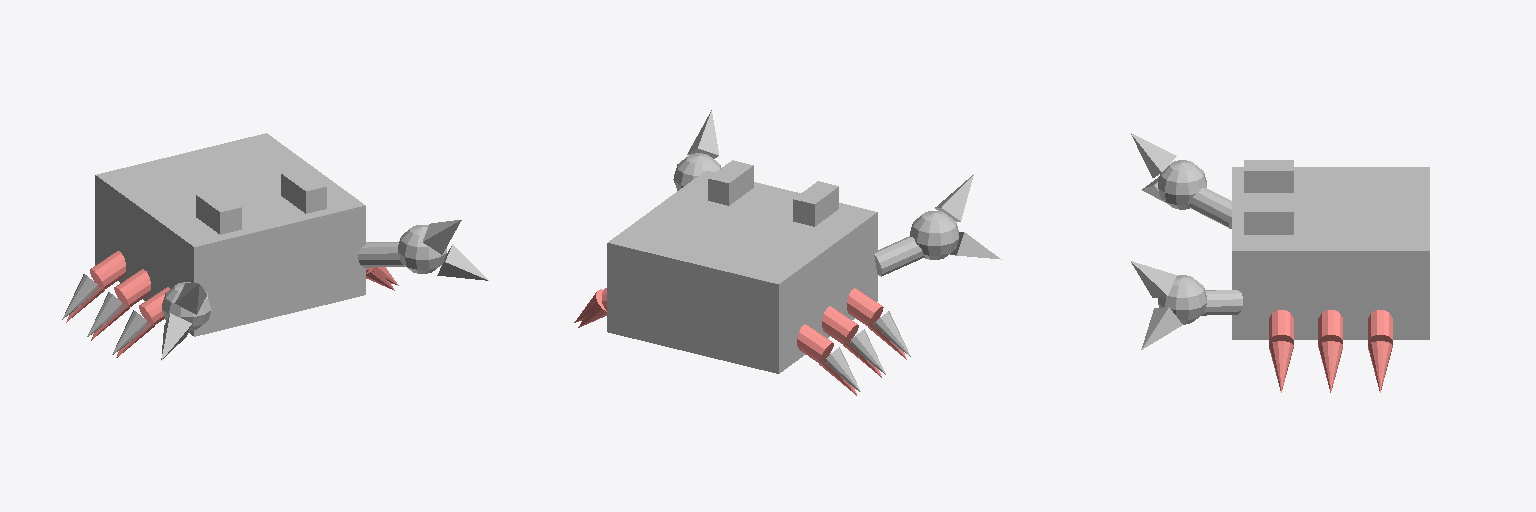
The picture shows the model from 3 angles: view 1: azimuth 30°, elevation 25°; view 2: azimuth 150°, elevation 25°; view 3: azimuth 270°, elevation 25°; orthographic projection.
Visible parts, largest first — view 1: cuboid, cylinder, pyramid, cone, sphere; view 2: cuboid, cylinder, cone, sphere, pyramid; view 3: cuboid, cylinder, sphere, pyramid, cone.
Part boxes in pixels (bbox=[...]): cuboid: bbox=[95, 133, 365, 336]; cylinder: bbox=[90, 242, 405, 325]; pyramid: bbox=[161, 220, 488, 360]; cone: bbox=[62, 267, 398, 357]; sphere: bbox=[162, 225, 446, 331]; cuboid: bbox=[607, 160, 877, 373]; cylinder: bbox=[602, 236, 924, 362]; cone: bbox=[574, 289, 910, 395]; sphere: bbox=[674, 153, 958, 259]; pyramid: bbox=[673, 110, 1001, 259]; cuboid: bbox=[1232, 160, 1429, 339]; cylinder: bbox=[1189, 188, 1392, 344]; sphere: bbox=[1158, 160, 1206, 324]; pyramid: bbox=[1131, 133, 1182, 349]; cone: bbox=[1269, 341, 1392, 392].
Bounding box in the file's own units: 1.92 × 0.7765 × 1.51.
4 materials, 1 textured.